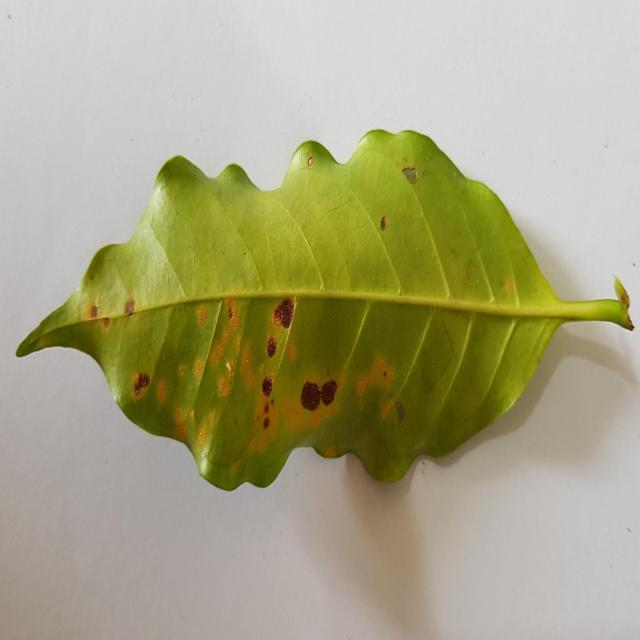rust: (258, 298, 296, 429), (363, 353, 400, 419), (188, 410, 222, 479), (218, 298, 241, 396), (300, 379, 342, 424), (193, 351, 209, 382), (195, 304, 210, 329), (156, 380, 169, 404)
